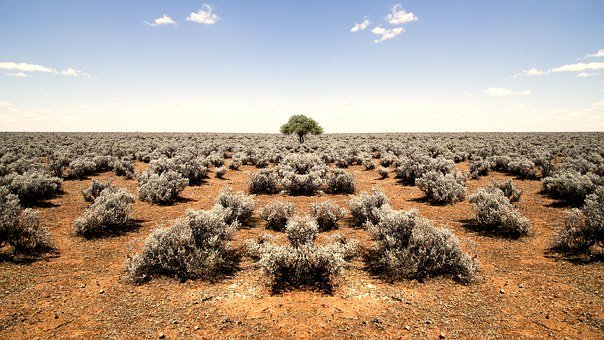ground: (4, 131, 604, 338)
sky: (1, 2, 604, 131)
tree: (281, 113, 326, 143)
